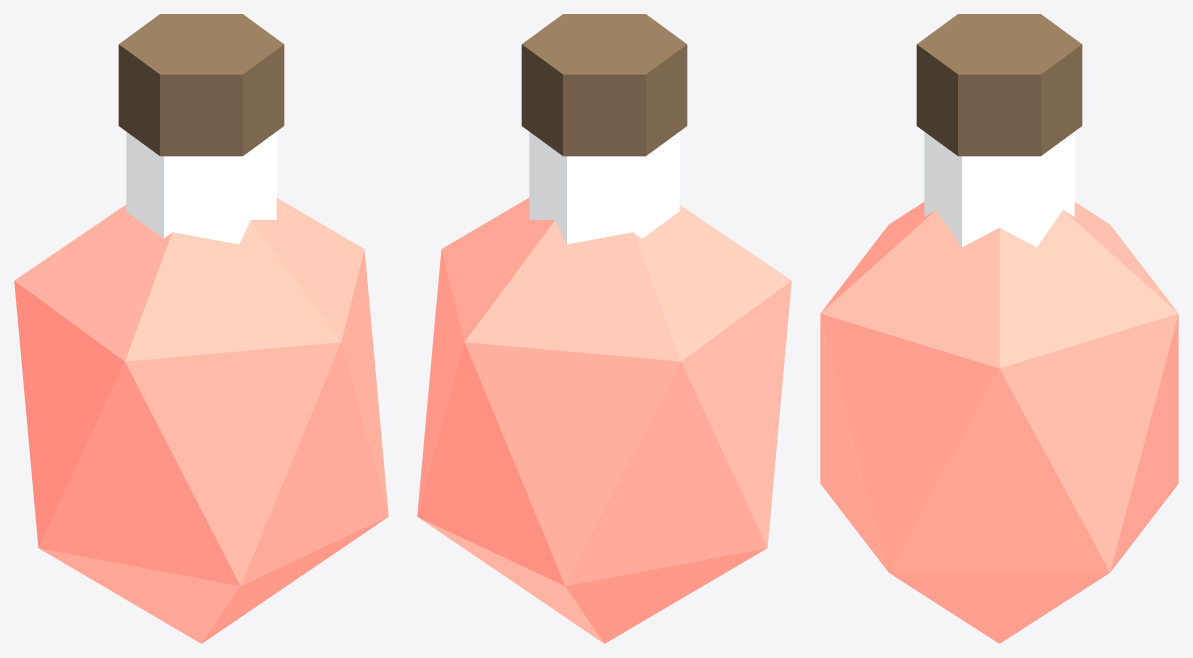
File: potion_health.glb
3 views of the same model, side by side, from view 1: azimuth 30°, elevation 25°; view 2: azimuth 150°, elevation 25°; view 3: azimuth 270°, elevation 25° (orthographic).
Visible parts, largest first — view 1: PotionHealth, PotionHealthCork, PotionHealthNeck; view 2: PotionHealth, PotionHealthCork, PotionHealthNeck; view 3: PotionHealth, PotionHealthCork, PotionHealthNeck.
Part boxes in pixels (bbox=[...]): PotionHealth: bbox=[14, 198, 388, 643]; PotionHealthCork: bbox=[118, 14, 284, 156]; PotionHealthNeck: bbox=[126, 132, 276, 244]; PotionHealth: bbox=[417, 198, 791, 643]; PotionHealthCork: bbox=[521, 14, 687, 156]; PotionHealthNeck: bbox=[529, 132, 679, 244]; PotionHealth: bbox=[820, 202, 1178, 643]; PotionHealthCork: bbox=[916, 14, 1082, 156]; PotionHealthNeck: bbox=[924, 132, 1074, 246].
Bounding box in the file's own units: 0.5009 × 0.88 × 0.4764.
